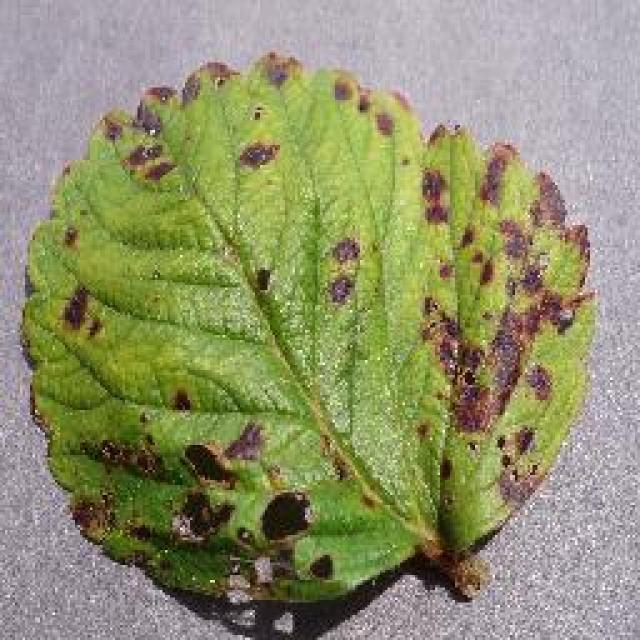Strawberry leaf scorch: (100, 146, 573, 532)
